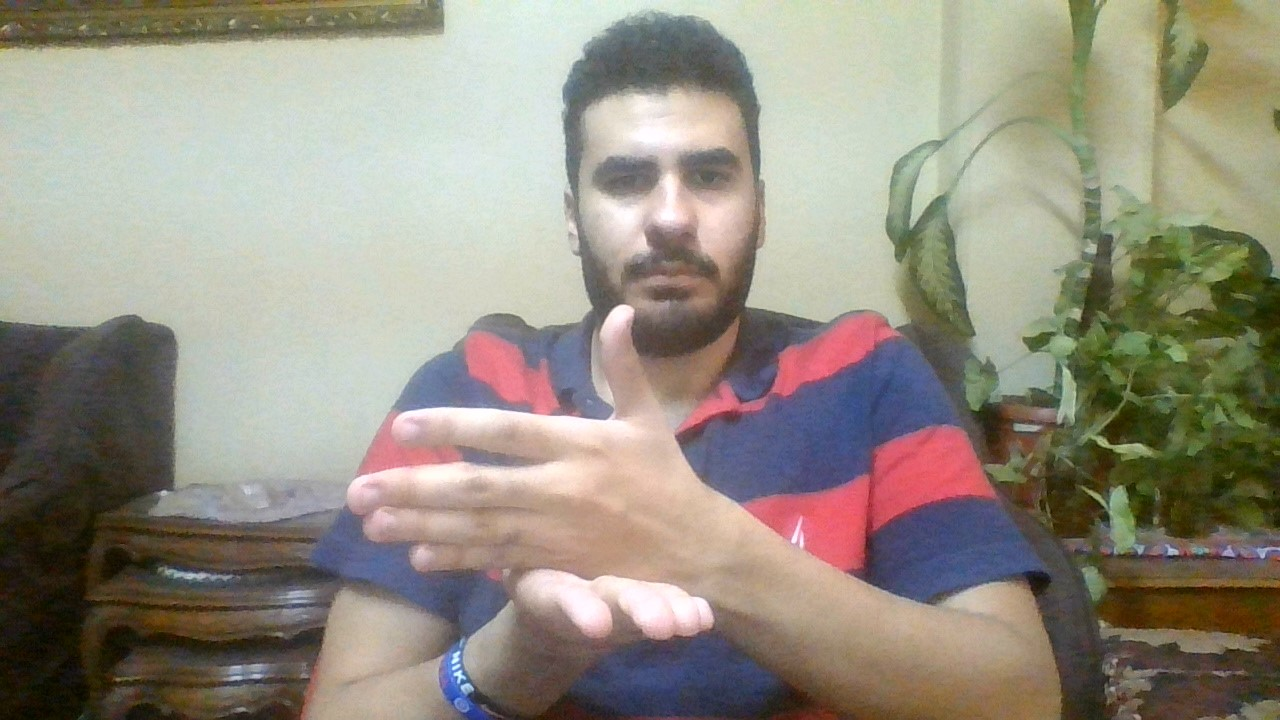stop: (350, 308, 720, 654)
